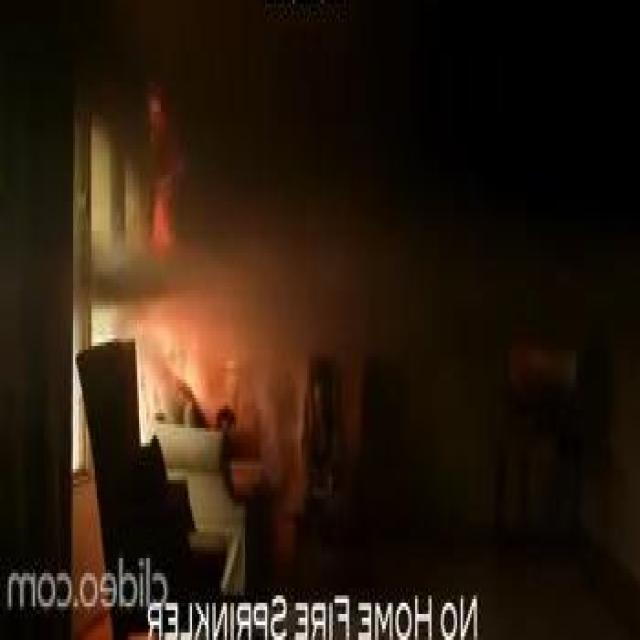smoke: (150, 316, 203, 391), (152, 186, 170, 257), (148, 96, 161, 126)
